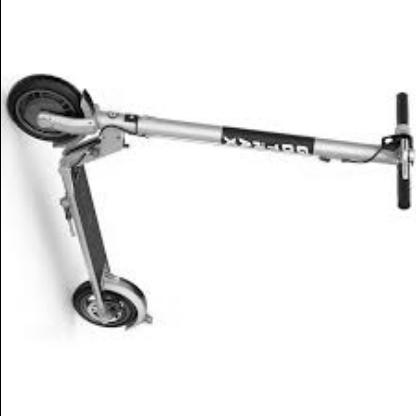bike: (6, 73, 415, 331)
